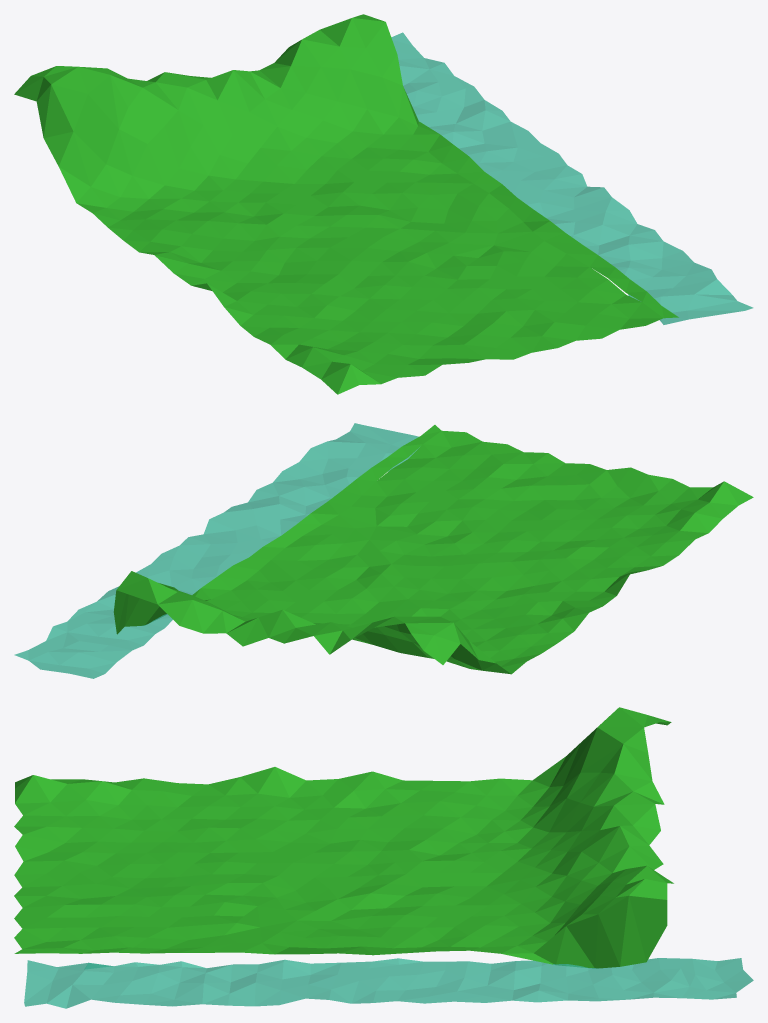
The model's file is river_new.FBX.
The picture shows the model from 3 angles, top to bottom: view 1: azimuth 30°, elevation 25°; view 2: azimuth 150°, elevation 25°; view 3: azimuth 270°, elevation 25°; orthographic projection. The views are drawn at different scales.
Parts seen in each view (by area): view 1: Object052, river001; view 2: Object052, river001; view 3: Object052, river001.
Part boxes in pixels (x1,y1,x2,y2): Object052: [14, 14, 678, 394]; river001: [391, 32, 753, 324]; Object052: [113, 425, 753, 674]; river001: [14, 423, 419, 678]; Object052: [14, 707, 673, 968]; river001: [24, 958, 753, 1008].
Bounding box in the file's own units: 506 × 119 × 753.
